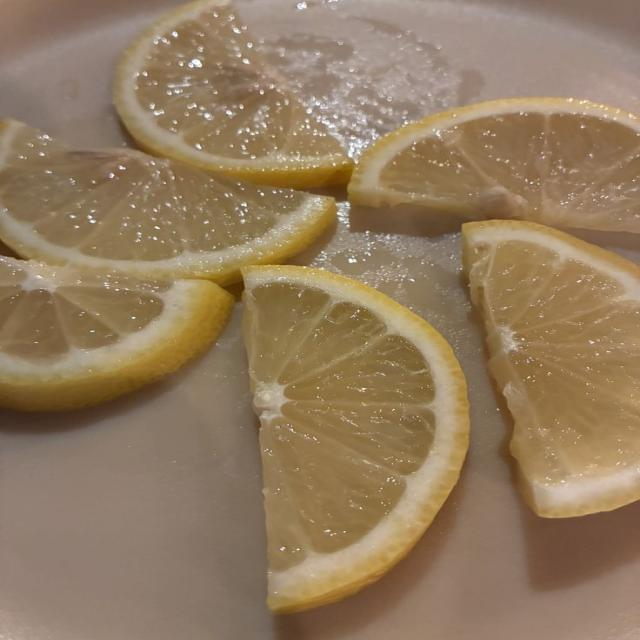lemon: (243, 267, 468, 612), (0, 121, 335, 284), (463, 221, 639, 516), (114, 0, 352, 187), (349, 98, 639, 232), (0, 257, 233, 410)
